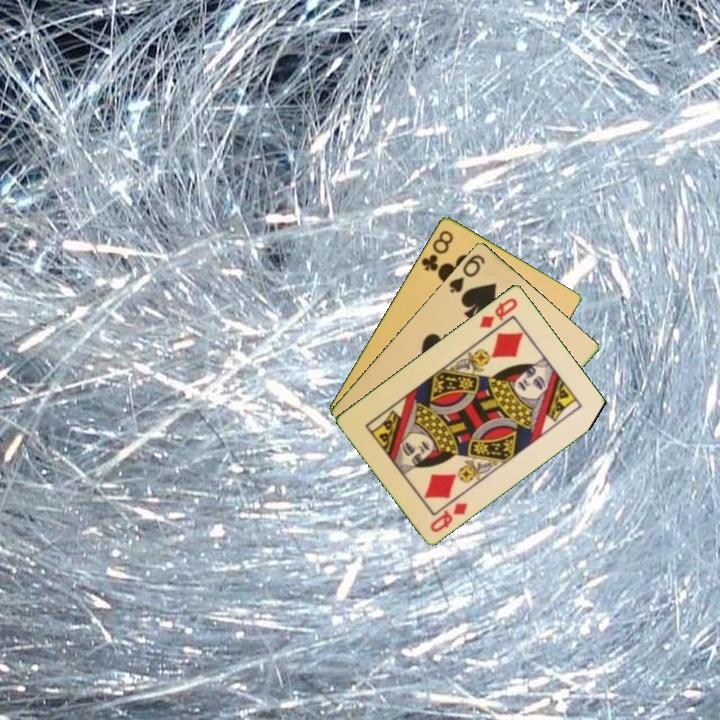6s: (445, 251, 488, 295)
8c: (417, 226, 456, 274)
Qd: (476, 294, 521, 331), (426, 499, 471, 535)
